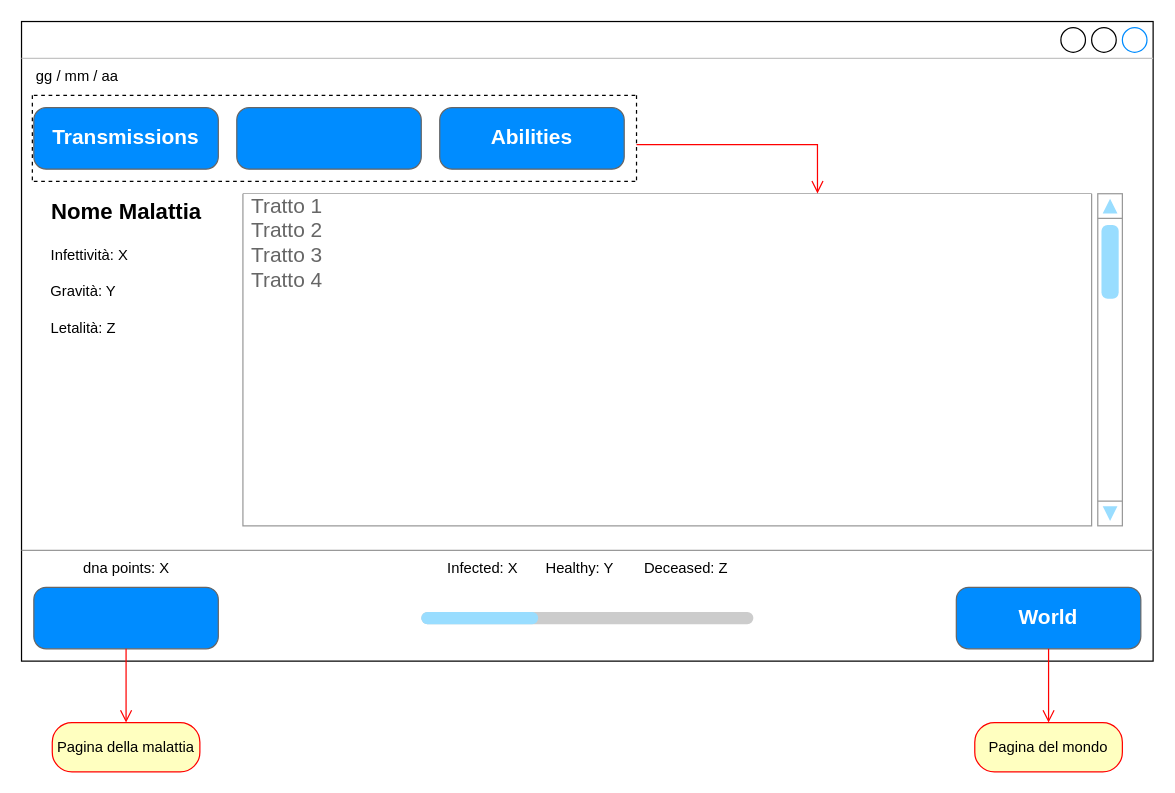
Image size: 1175x793. Some labels were removed from this diagram. Here are the shapes that lost their labels. From the top down, the centre of each, then its label:
At point (328, 137): "Symptoms".
At point (125, 617): "Plague".
